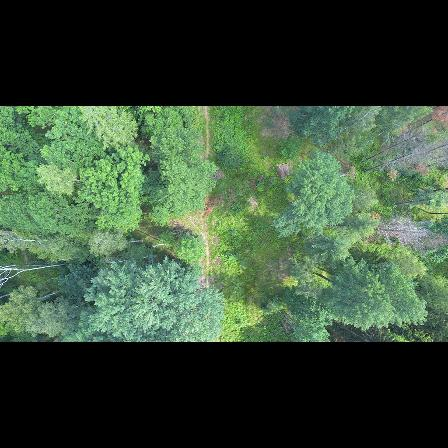Dead: (367, 133, 424, 161), (391, 143, 448, 166), (391, 228, 446, 250), (365, 150, 419, 170), (374, 222, 426, 239), (410, 154, 448, 171), (418, 160, 445, 171)
